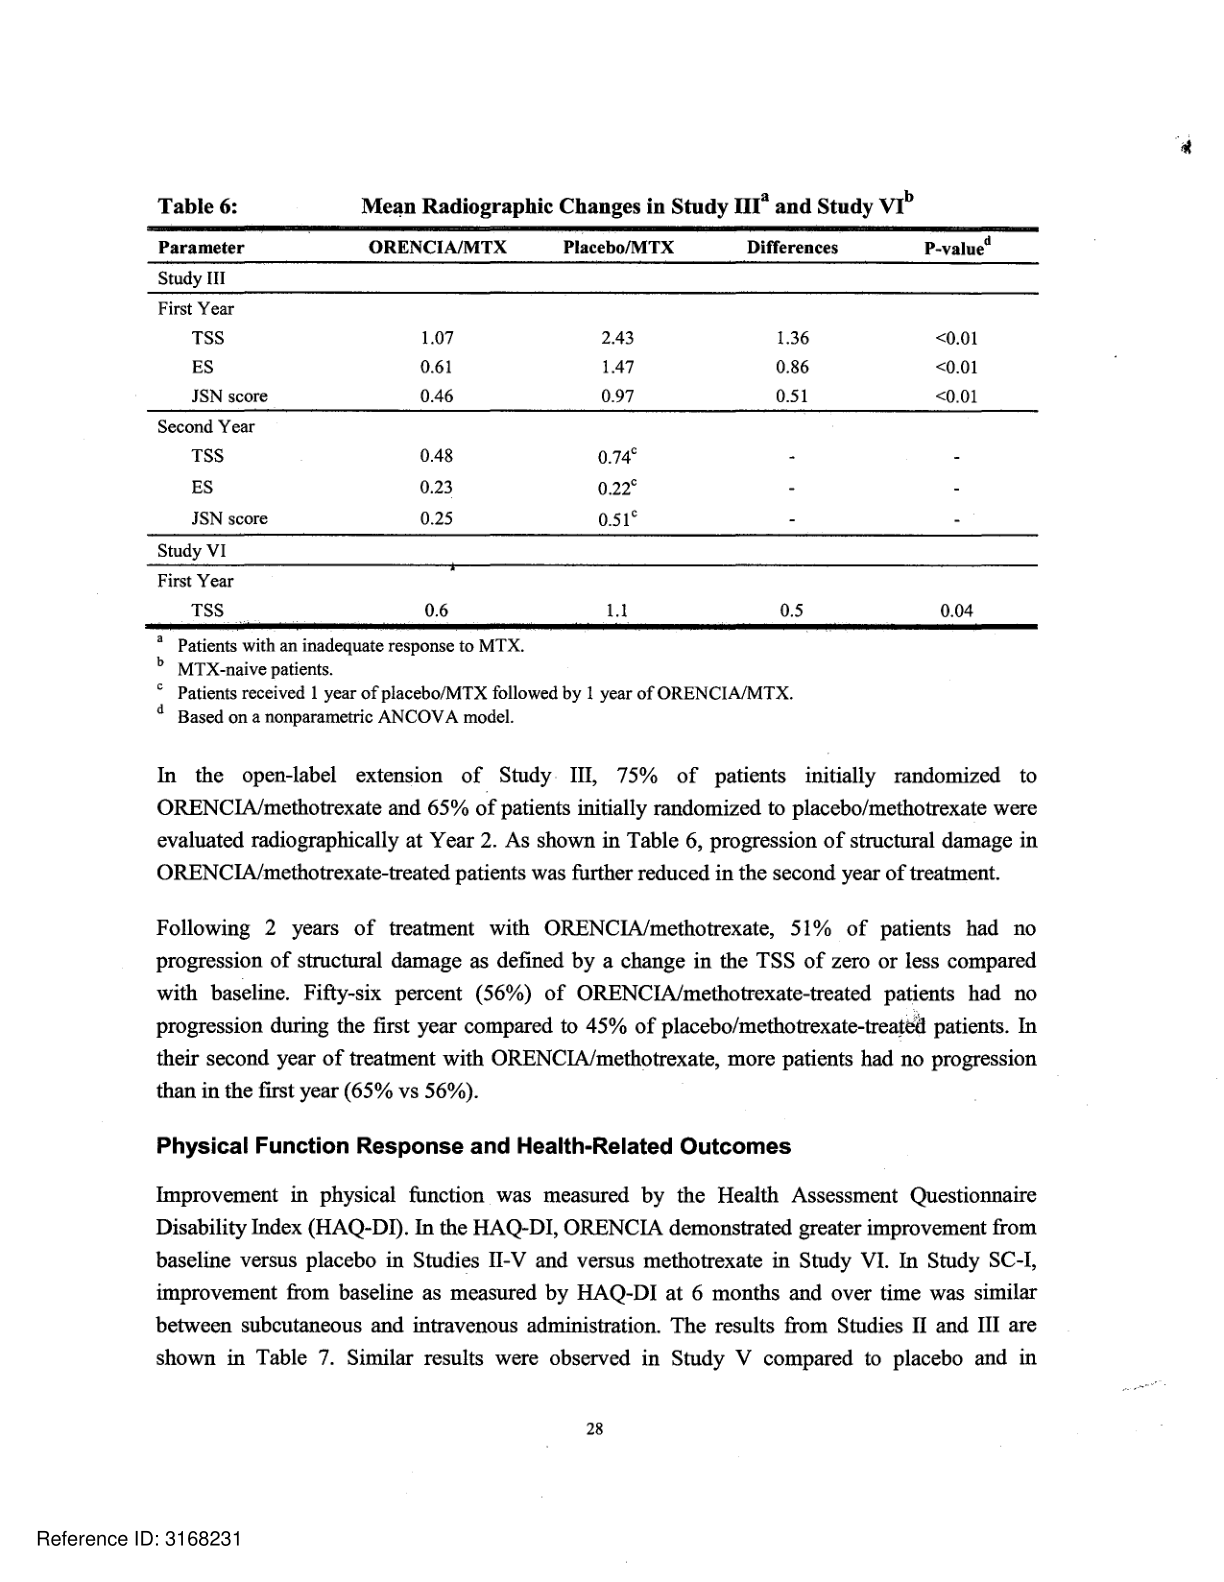partial_lined: (144, 223, 1042, 633)
